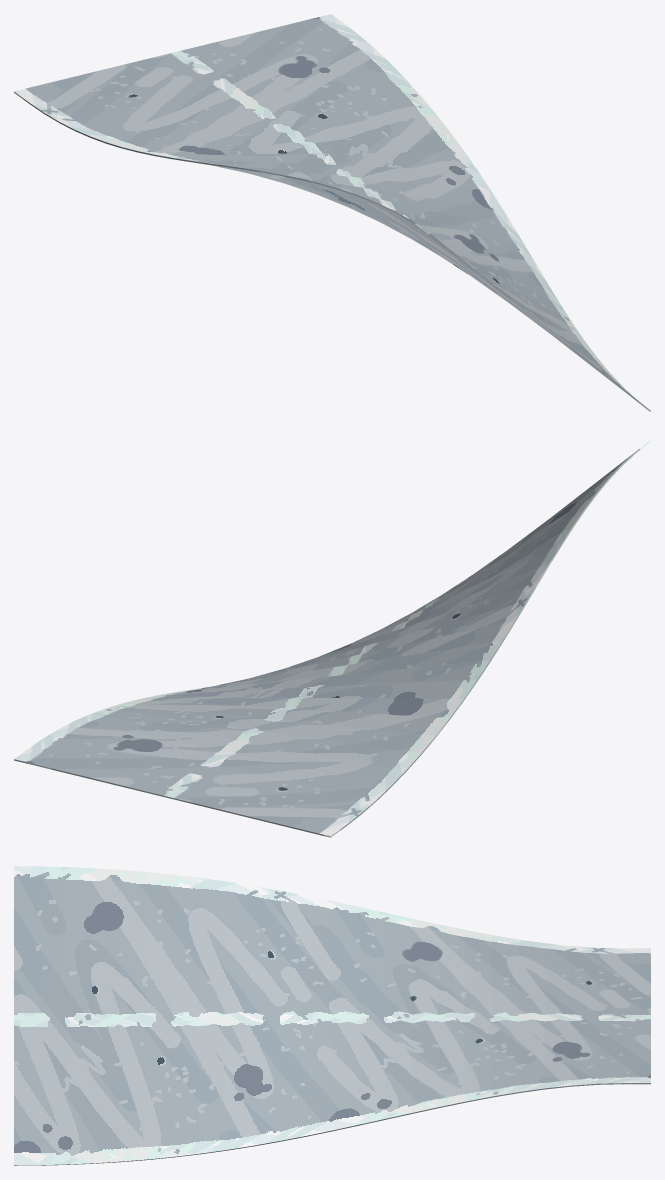
Rendered from spinning45.glb.
The picture shows the model from 3 angles, top to bottom: view 1: azimuth 30°, elevation 25°; view 2: azimuth 150°, elevation 25°; view 3: azimuth 270°, elevation 25°; orthographic projection. The views are drawn at different scales.
Visible parts, largest first — view 1: Road_Spinning_45; view 2: Road_Spinning_45; view 3: Road_Spinning_45.
Boxes of the visible parts, x1,y1,x2,y2 form: Road_Spinning_45: [14, 14, 650, 411]; Road_Spinning_45: [14, 440, 650, 837]; Road_Spinning_45: [14, 866, 650, 1165].
Bounding box in the file's own units: 10 × 7.1 × 20.
Materials: 1 (1 with a texture image).
